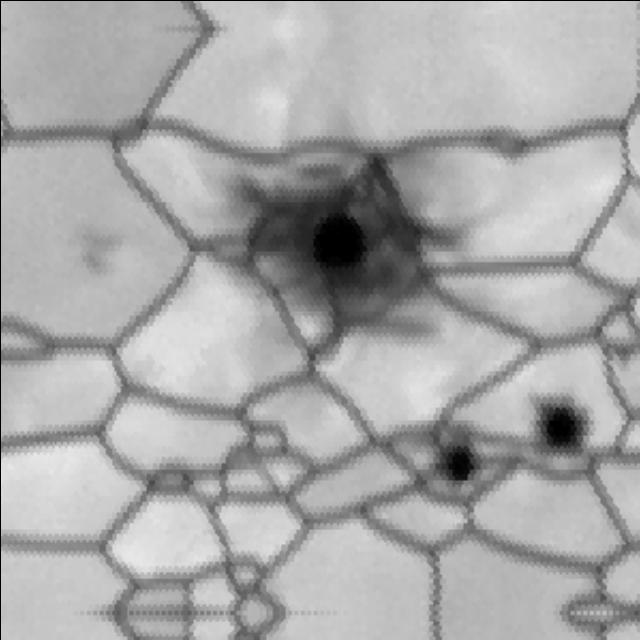good_void: (202, 99, 483, 363), (63, 203, 146, 285), (522, 384, 595, 470), (424, 412, 493, 499)
